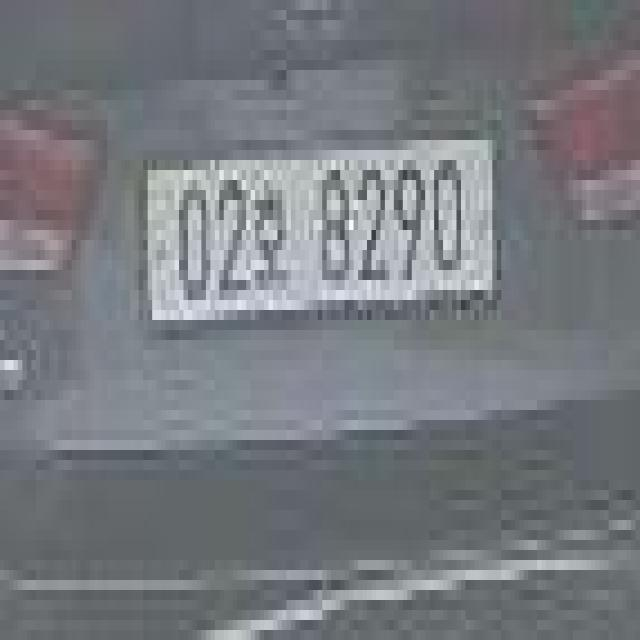illegal_plate: (138, 132, 501, 330)
